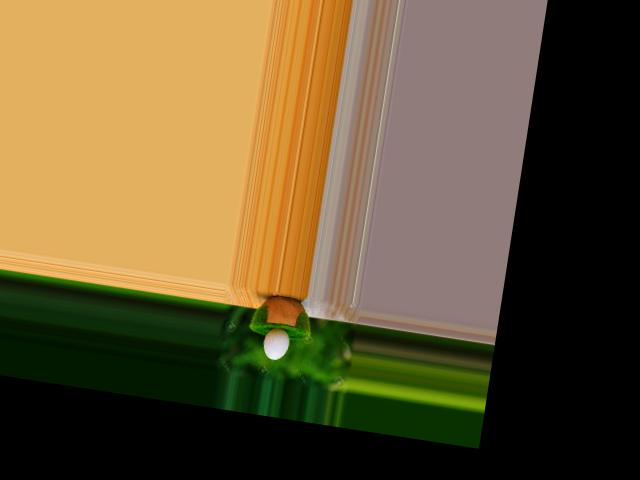egg: (262, 326, 292, 361)
